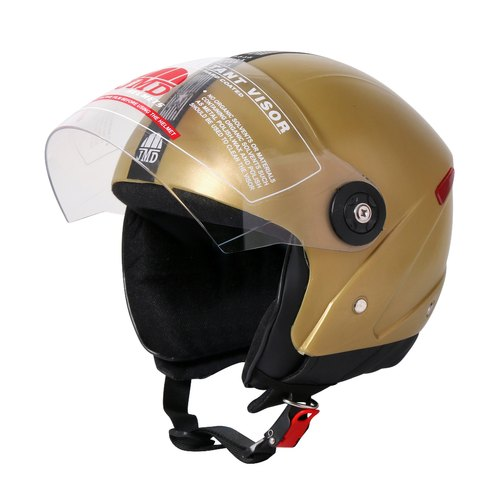helmet: (33, 23, 469, 470)
